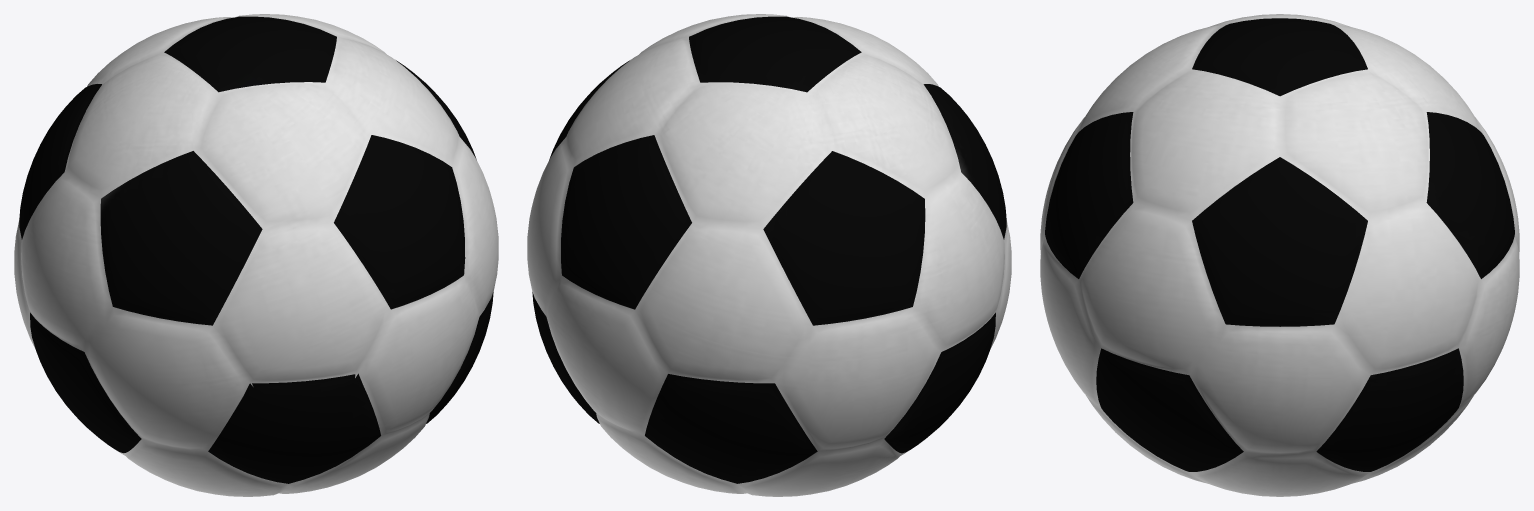
The model's file is ball.glb.
The picture shows the model from 3 angles, left to right: view 1: azimuth 30°, elevation 25°; view 2: azimuth 150°, elevation 25°; view 3: azimuth 270°, elevation 25°; orthographic projection.
Parts seen in each view (by area): view 1: Object_3, Object_2; view 2: Object_3, Object_2; view 3: Object_3, Object_2.
Part boxes in pixels (<box>): Object_3: <box>14,14,498,496</box>; Object_2: <box>19,16,493,483</box>; Object_3: <box>527,14,1011,496</box>; Object_2: <box>532,16,1006,483</box>; Object_3: <box>1040,14,1519,496</box>; Object_2: <box>1045,18,1514,471</box>.
Size of the model in its own units: 2.1 by 2.11 by 2.09.
Materials: 2 (2 with a texture image).
